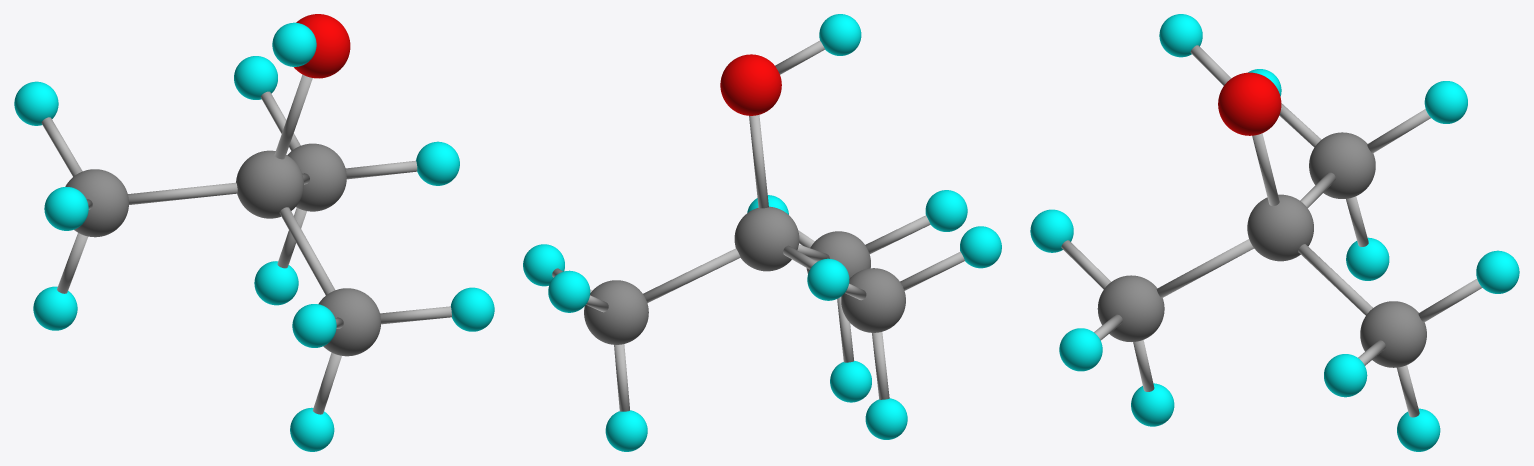
Rendered from 2-methy 2-lpropanol.glb.
3 renders of one model, left to right at view 1: azimuth 30°, elevation 25°; view 2: azimuth 150°, elevation 25°; view 3: azimuth 270°, elevation 25°, orthographic. The views are drawn at different scales.
Visible parts, largest first — view 1: CMAtom_0; view 2: CMAtom_0; view 3: CMAtom_0.
Part boxes in pixels (x1,y1,x2,y2): CMAtom_0: (14,14,494,451); CMAtom_0: (523,14,1001,451); CMAtom_0: (1030,14,1519,451).
Bounding box in the file's own units: 0.4736 × 0.4146 × 0.4514.
